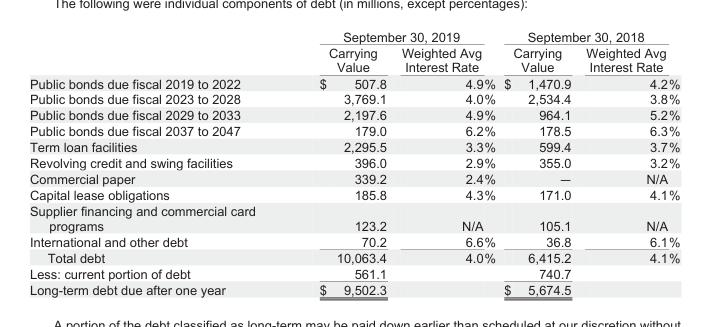table: (28, 28, 679, 296)
table column: (28, 28, 286, 296), (286, 28, 393, 296), (393, 28, 499, 296), (577, 28, 679, 296), (499, 28, 577, 296)
table column header: (28, 28, 679, 75)
table row: (28, 44, 679, 75), (28, 202, 679, 233), (28, 28, 679, 44), (28, 75, 679, 91), (28, 106, 679, 122), (28, 122, 679, 138), (28, 138, 679, 154), (28, 154, 679, 170), (28, 170, 679, 186), (28, 186, 679, 202), (28, 233, 679, 249), (28, 249, 679, 265), (28, 265, 679, 281), (28, 91, 679, 106), (28, 281, 679, 296)
table spanning cell: (286, 28, 499, 44), (499, 28, 679, 44)
